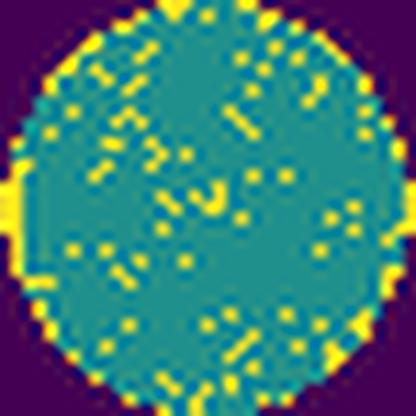Edge-Loc: (0, 153, 41, 284), (156, 0, 199, 29)
